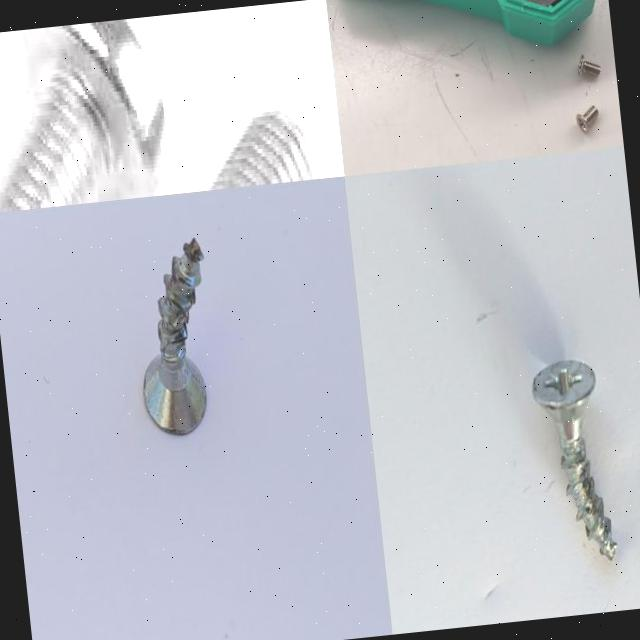Screw: (0, 18, 169, 212), (532, 359, 617, 559), (143, 236, 206, 433), (572, 102, 606, 136), (572, 51, 604, 84)
